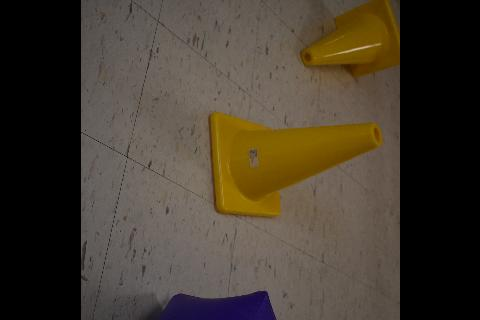cone: (209, 112, 381, 218), (300, 0, 400, 77)
cube: (104, 290, 308, 320)
